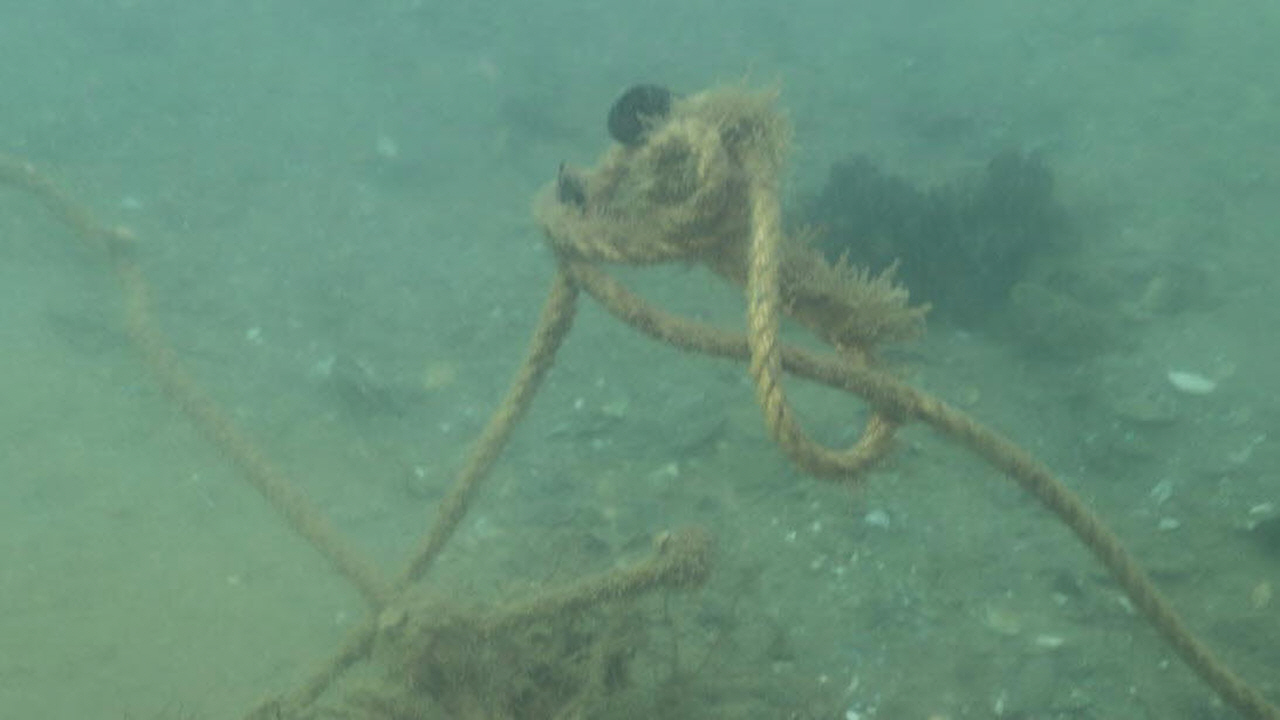bundle of ropes: (0, 95, 1280, 720)
